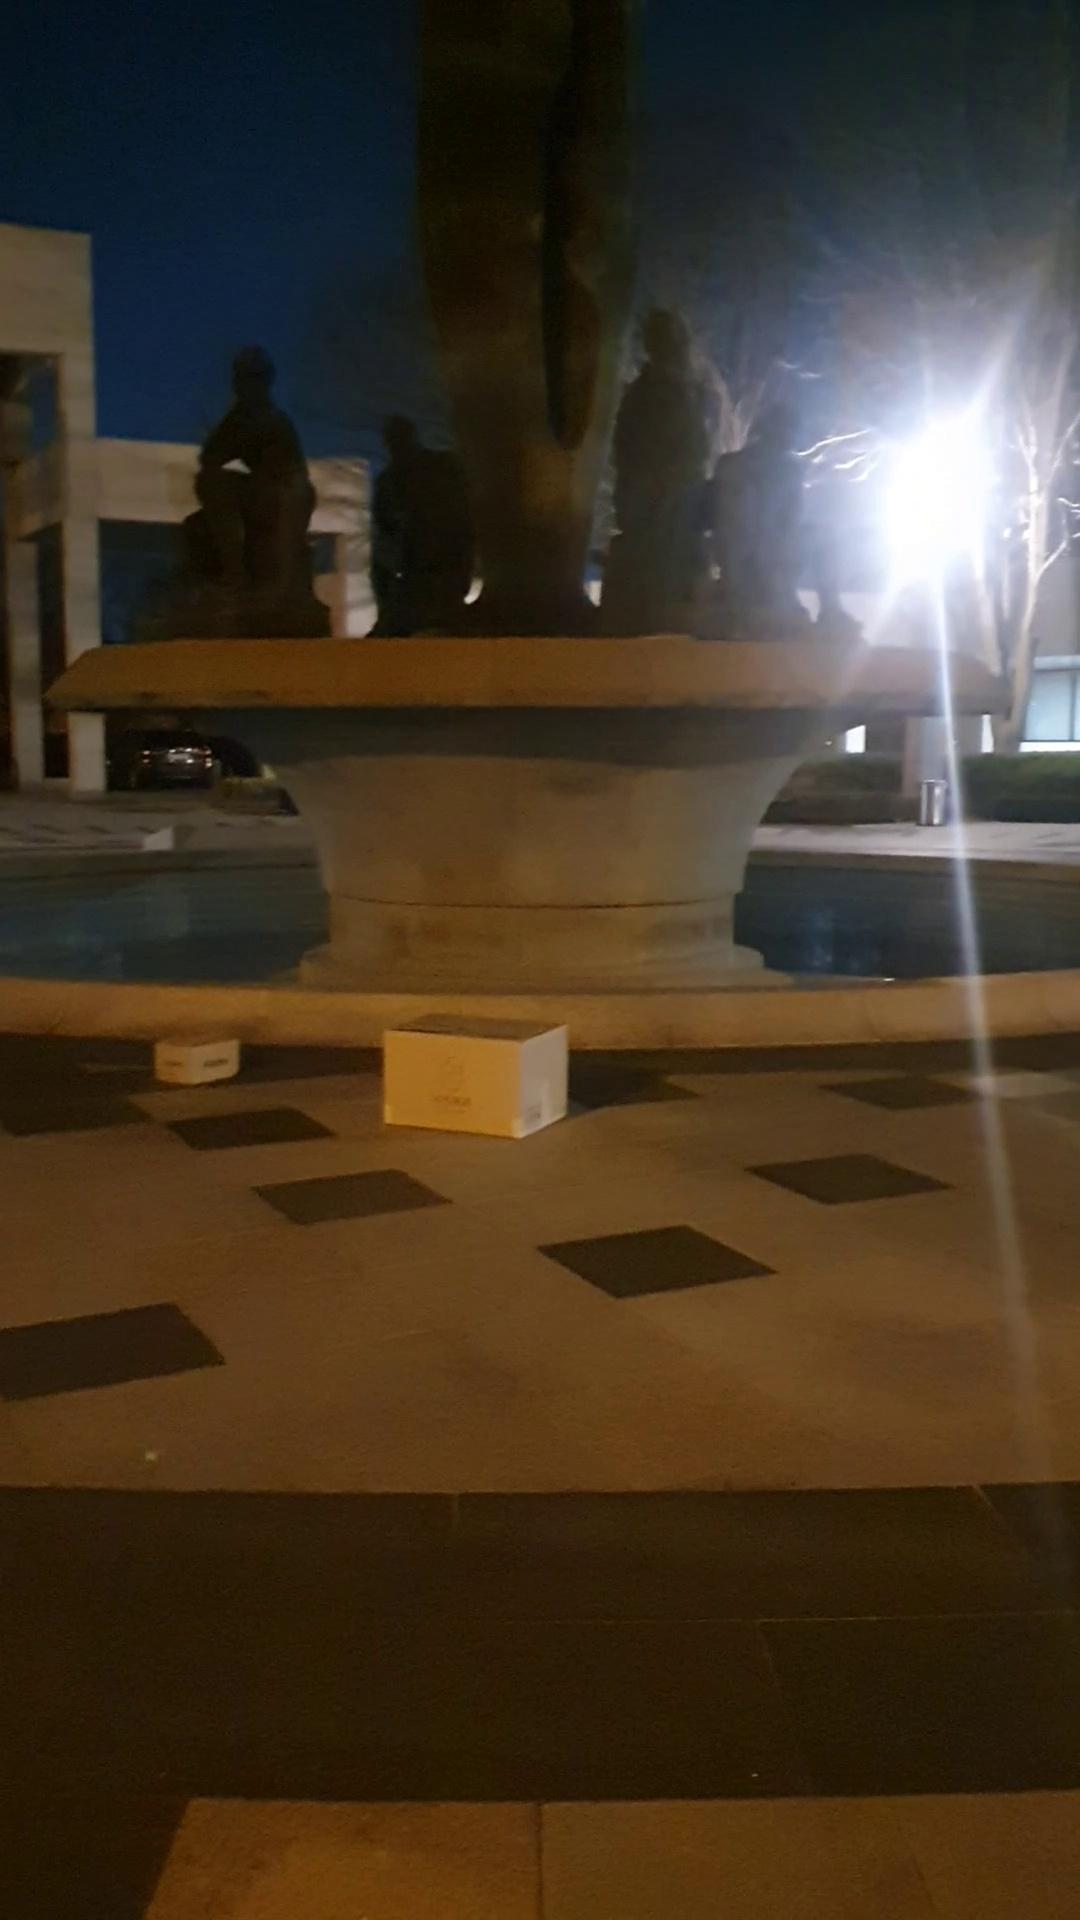Box: (371, 1007, 585, 1138), (142, 1025, 245, 1095)
